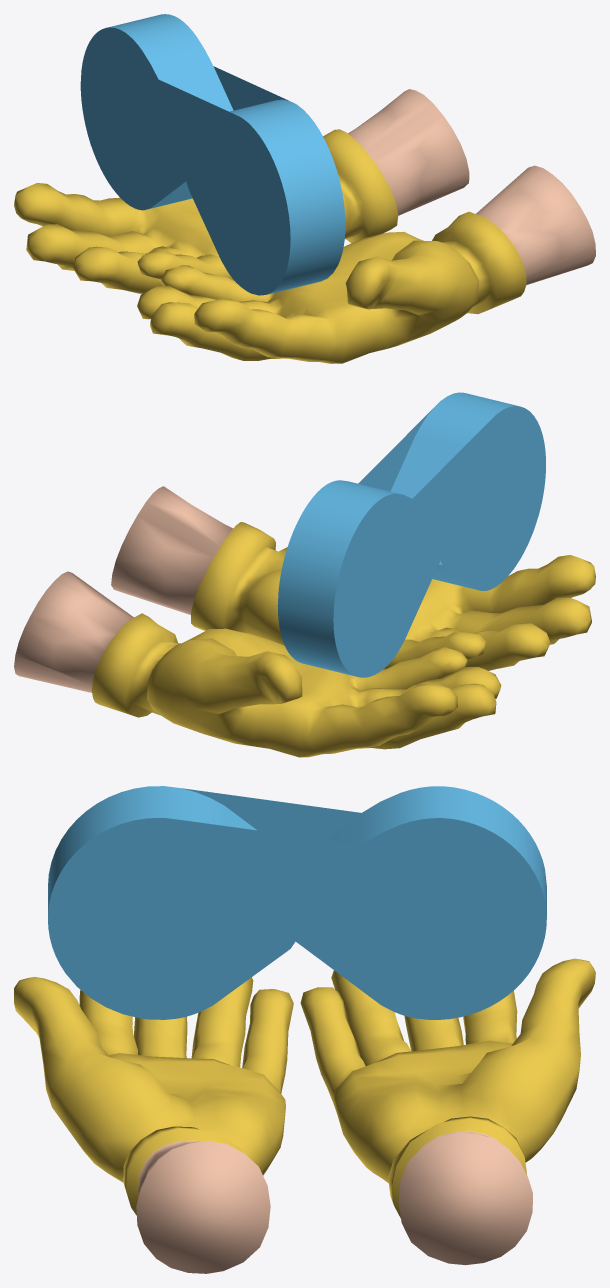
The model's file is capacity (2).fbx.
3 renders of one model, top to bottom at view 1: azimuth 30°, elevation 25°; view 2: azimuth 150°, elevation 25°; view 3: azimuth 270°, elevation 25°, orthographic. The views are drawn at different scales.
Visible parts, largest first — view 1: el, sonsuz; view 2: el, sonsuz; view 3: el, sonsuz.
Boxes of the visible parts, <box> form: el: <box>14,89,595,363</box>; sonsuz: <box>80,14,345,295</box>; el: <box>14,486,595,757</box>; sonsuz: <box>277,392,545,677</box>; el: <box>14,958,595,1273</box>; sonsuz: <box>48,786,546,1019</box>.
Size of the model in its own units: 281 by 156 by 262.
